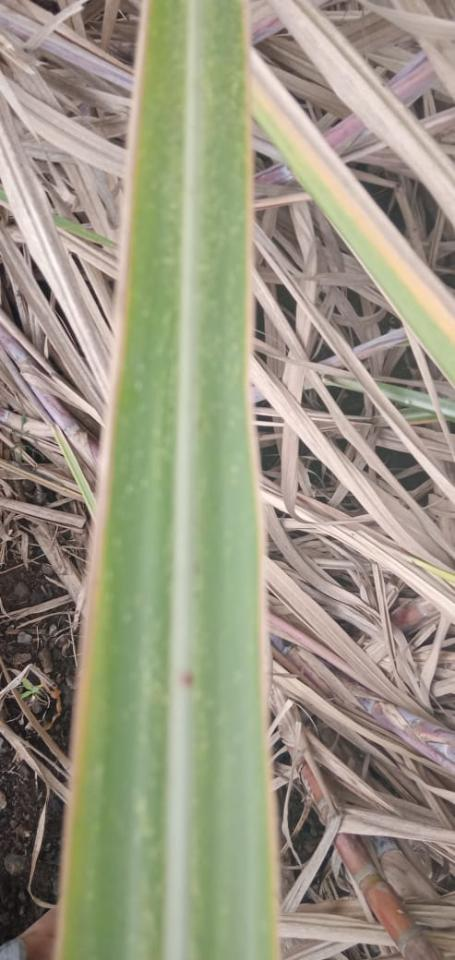RedRot: (177, 669, 195, 687)
Yellow: (53, 0, 151, 959), (250, 44, 454, 351), (243, 0, 285, 959)
